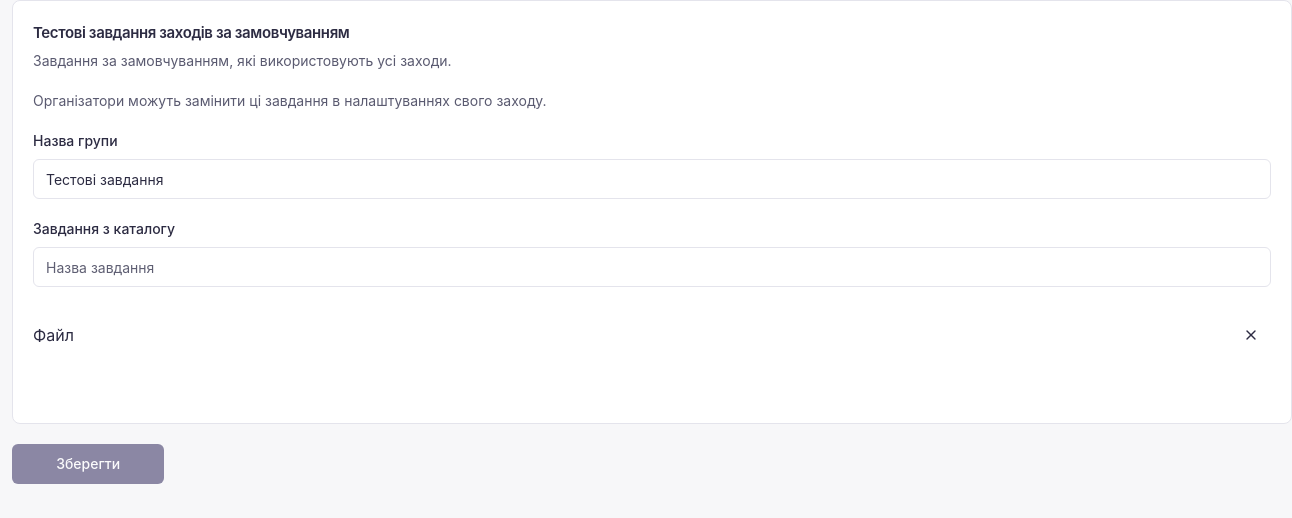
Test: keeps controls enabled and newer edits when a save completes
The image size is (1292, 518).
Focus the dropdown: coordinates (652, 267) [33,247,1271,287]
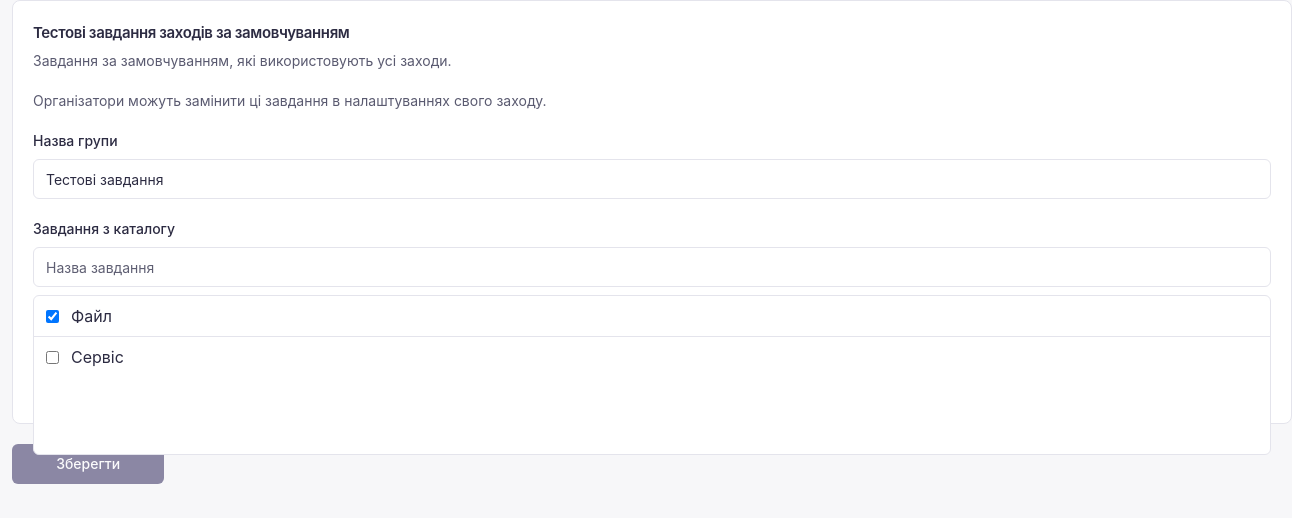
Now the list "Файл Сервіс" is shown, box [33,295,1271,455]
Click the checkbox labelled "Сервіс": coordinates (52, 357) [46,350,59,364]
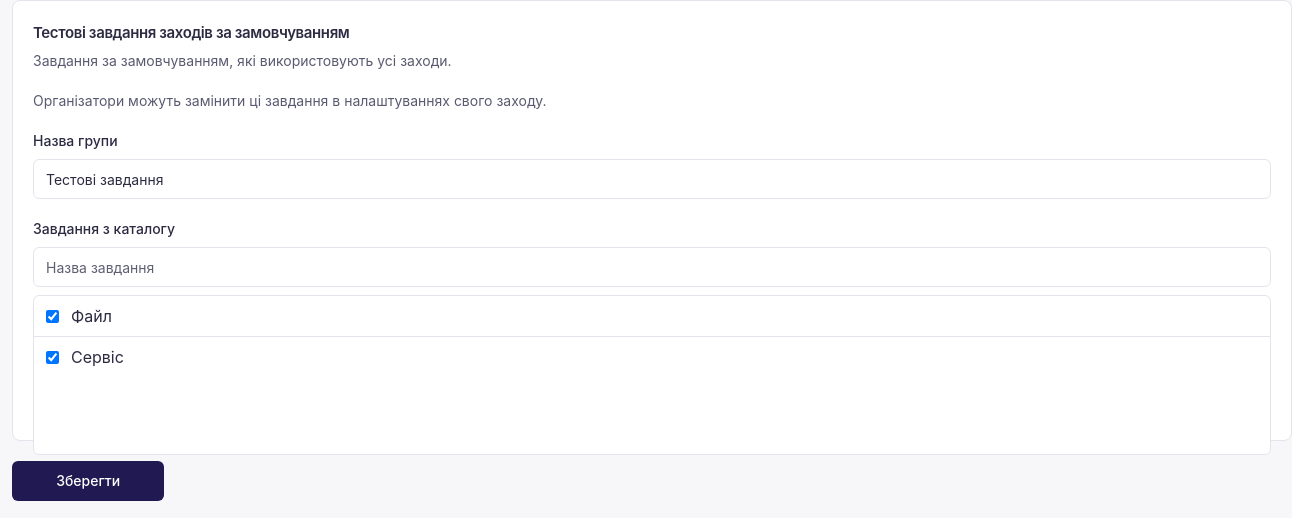
Click the button "Зберегти": coordinates (88, 481) [12,461,164,501]
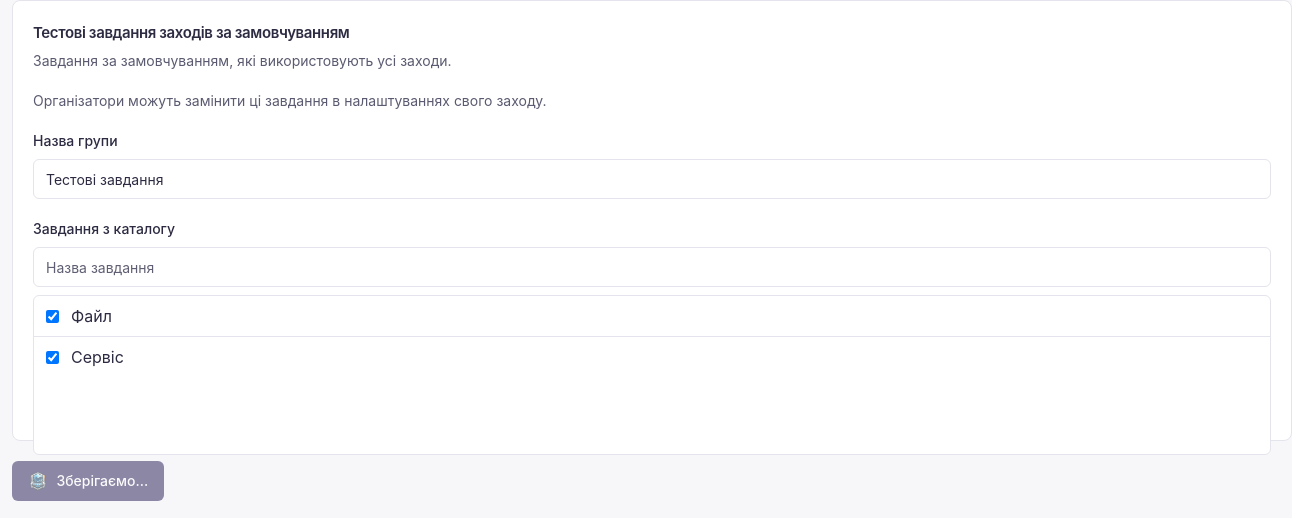
Now the checkbox labelled "Сервіс" is enabled
Click the checkbox labelled "Сервіс": coordinates (52, 357) [46,350,59,364]
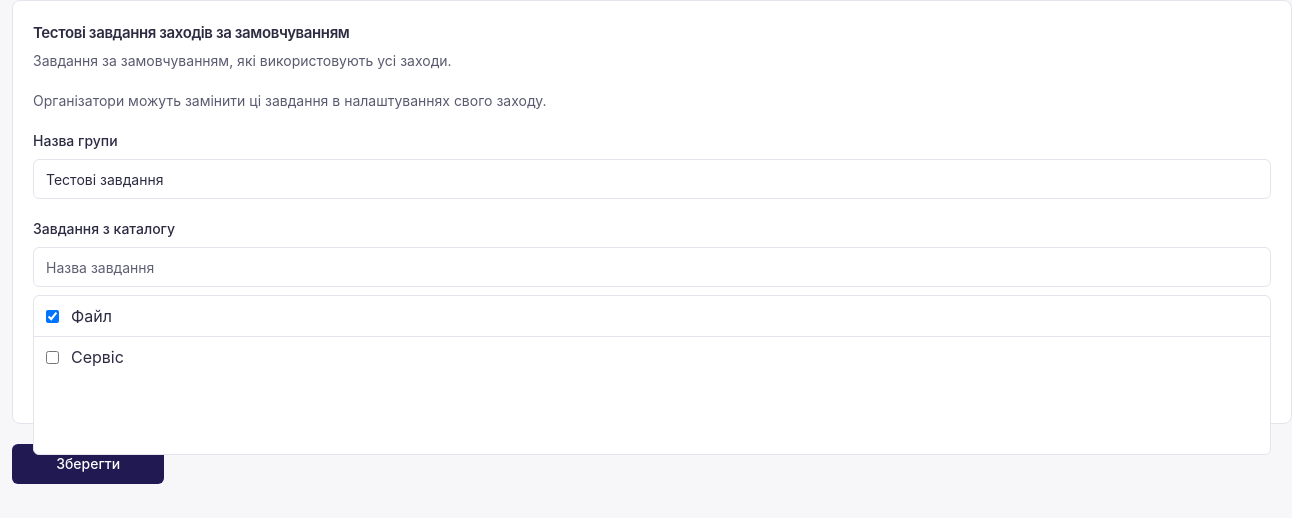
Now the checkbox labelled "Сервіс" is not checked, box [46,350,59,364]
Now the button "Зберегти" is enabled, box [12,444,164,484]
